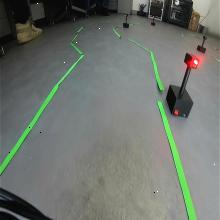red: (183, 51, 200, 70)
